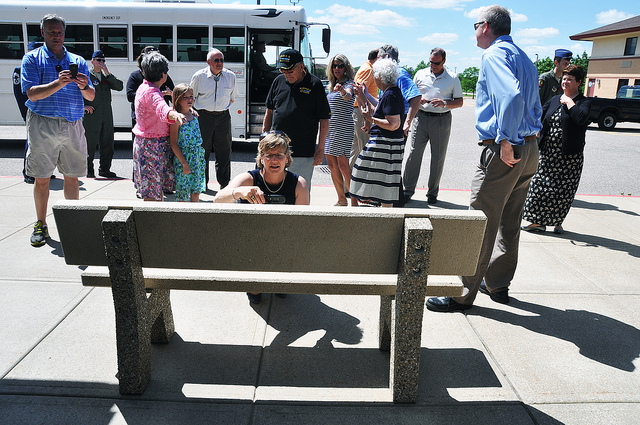Person: (467, 14, 543, 225), (16, 15, 90, 199), (194, 46, 247, 178), (365, 60, 405, 212)
